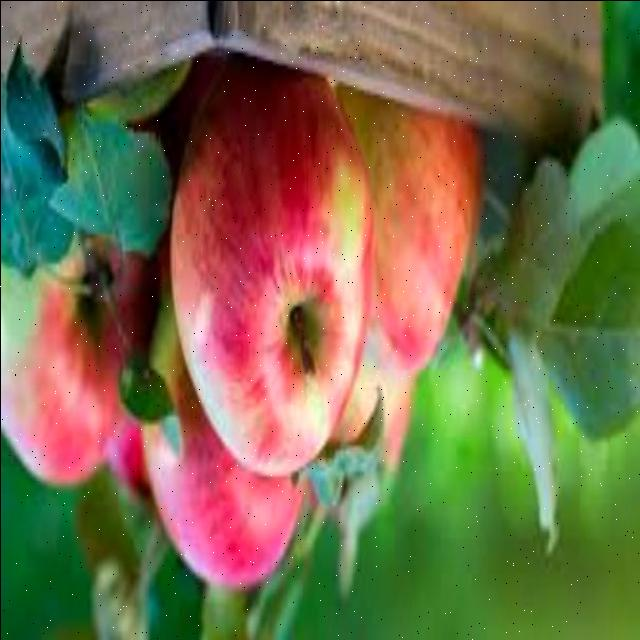HEALTHY: (152, 63, 392, 525)
